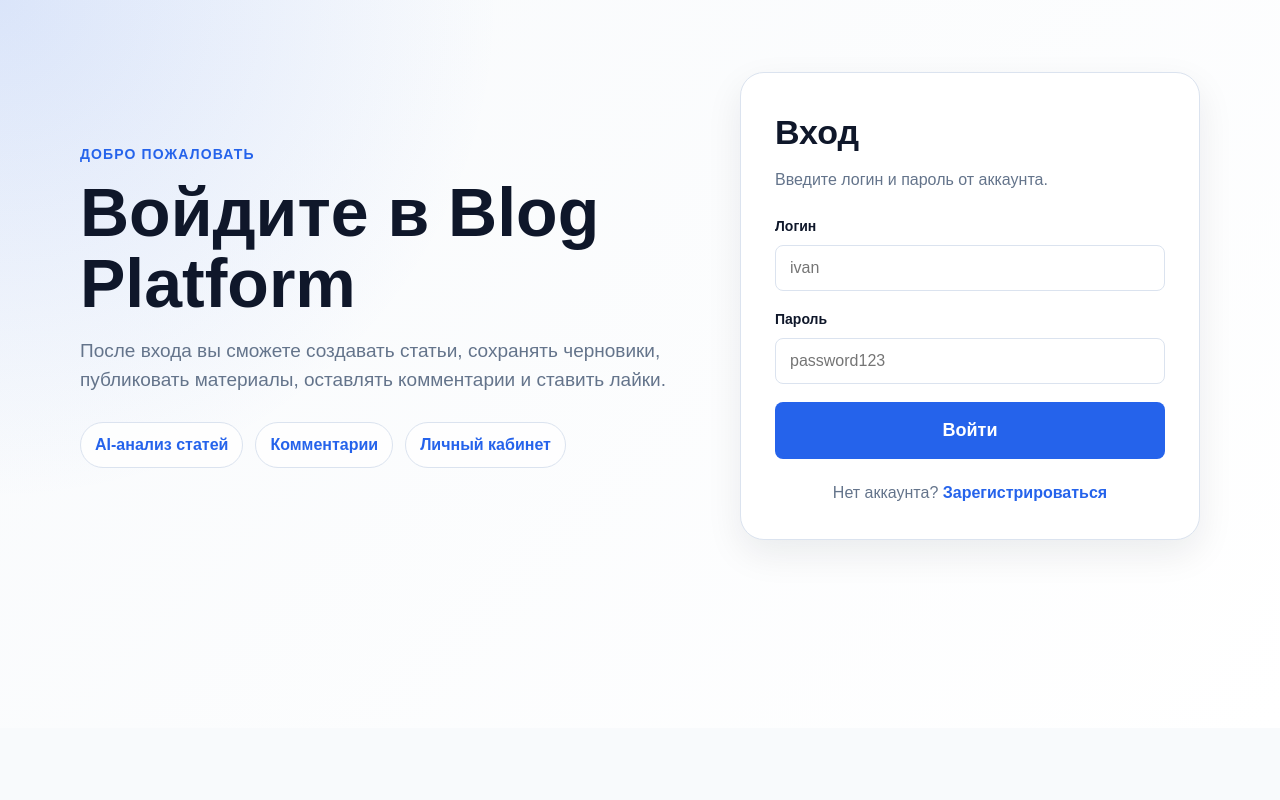
LoginPage › показывает ошибку при слишком коротком логине
Type "iv" into the field labelled "Логин". click: (970, 268)
box: x1=775 y1=245 x2=1165 y2=291
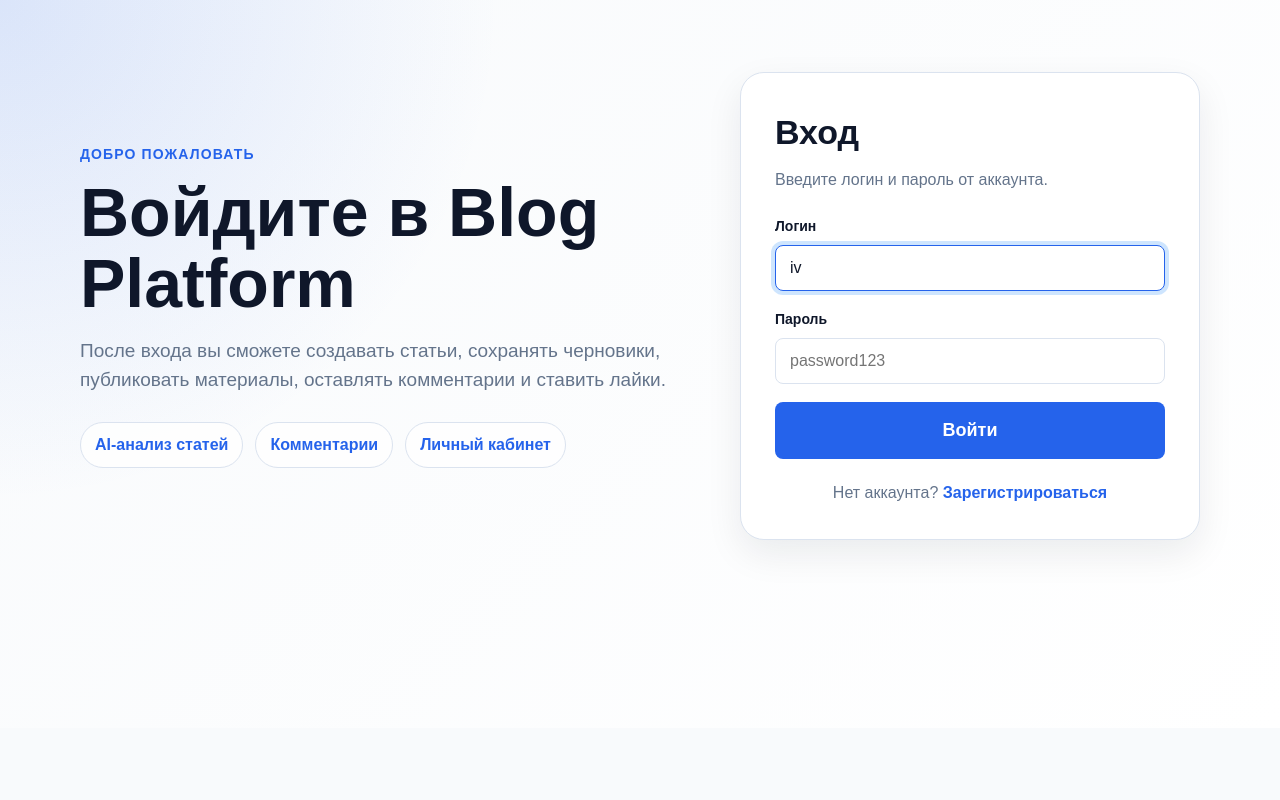
Type "password123" into the password field labelled "Пароль". click: (970, 361)
box: x1=775 y1=338 x2=1165 y2=384
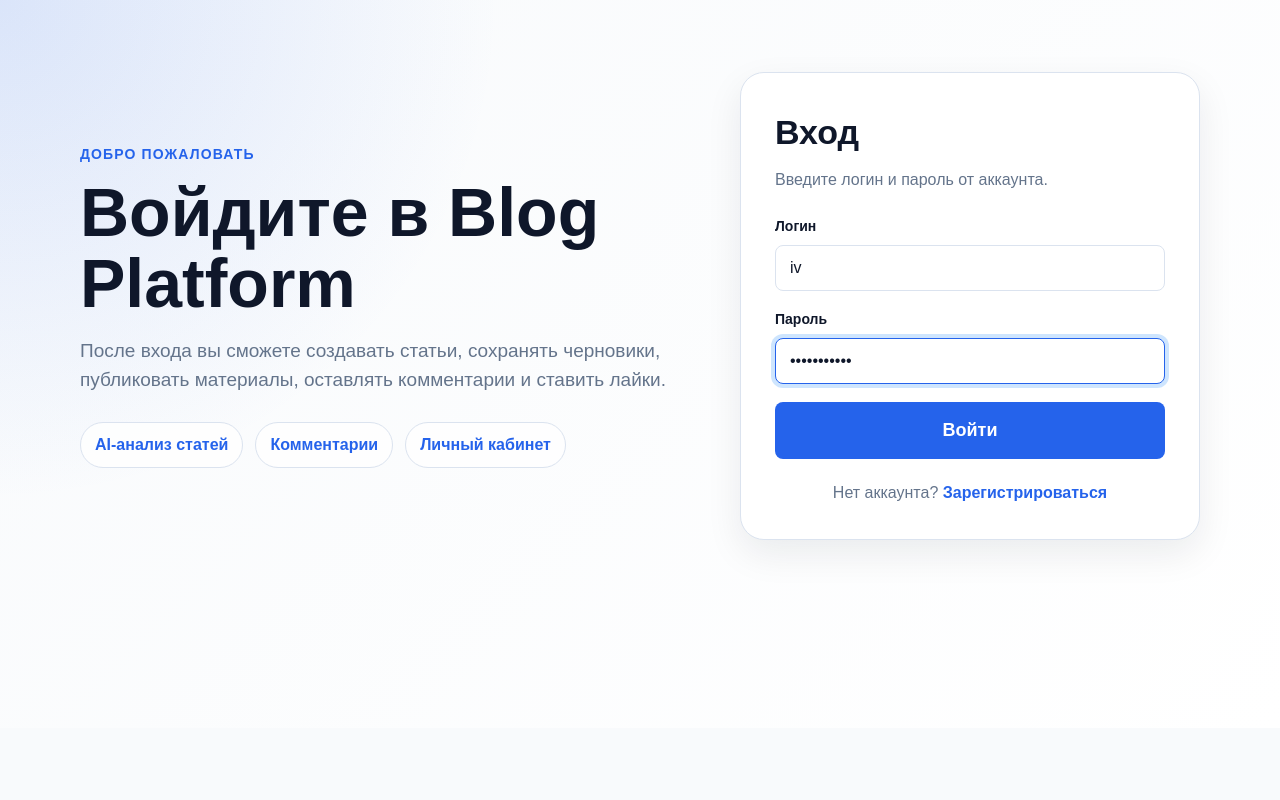
Click the button "Войти". click: (970, 430)
box: x1=775 y1=402 x2=1165 y2=459
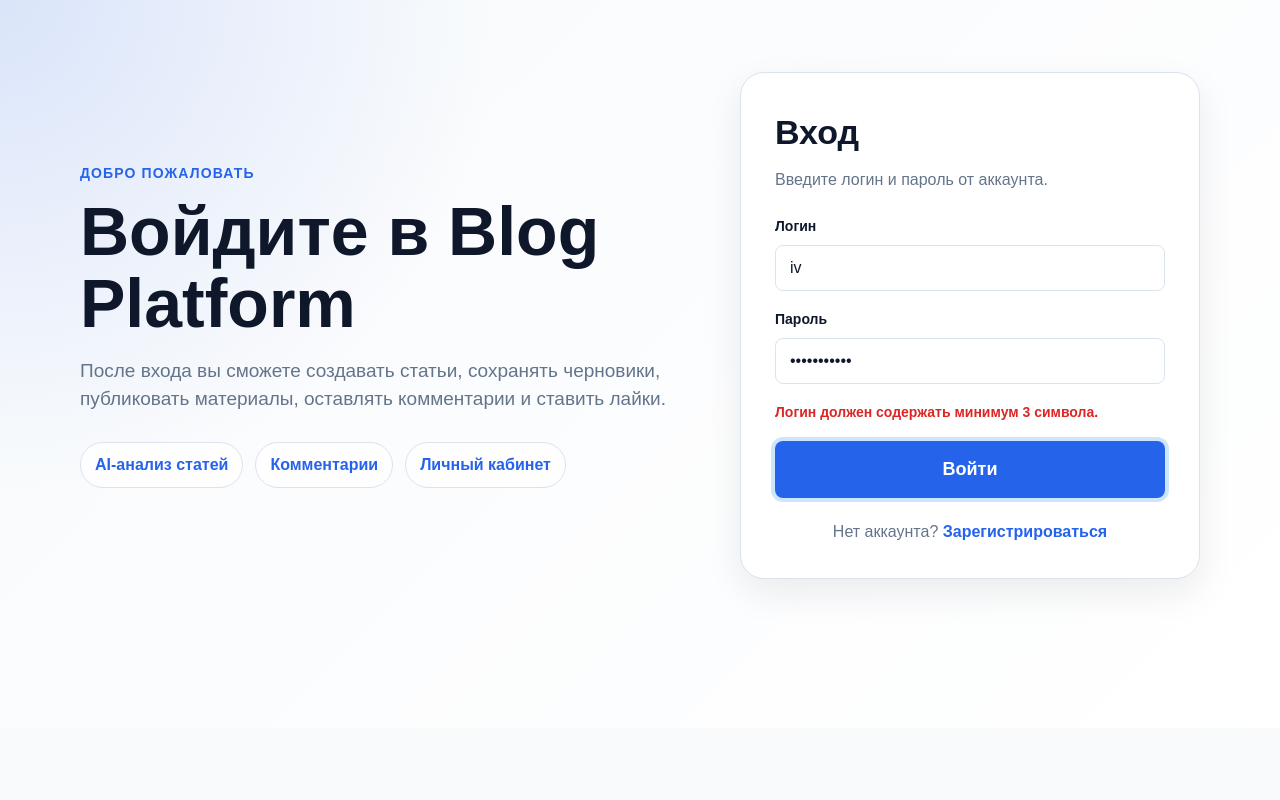
Expected: the text "Логин должен содержать минимум 3 символа." is shown, x1=775 y1=404 x2=1098 y2=420
